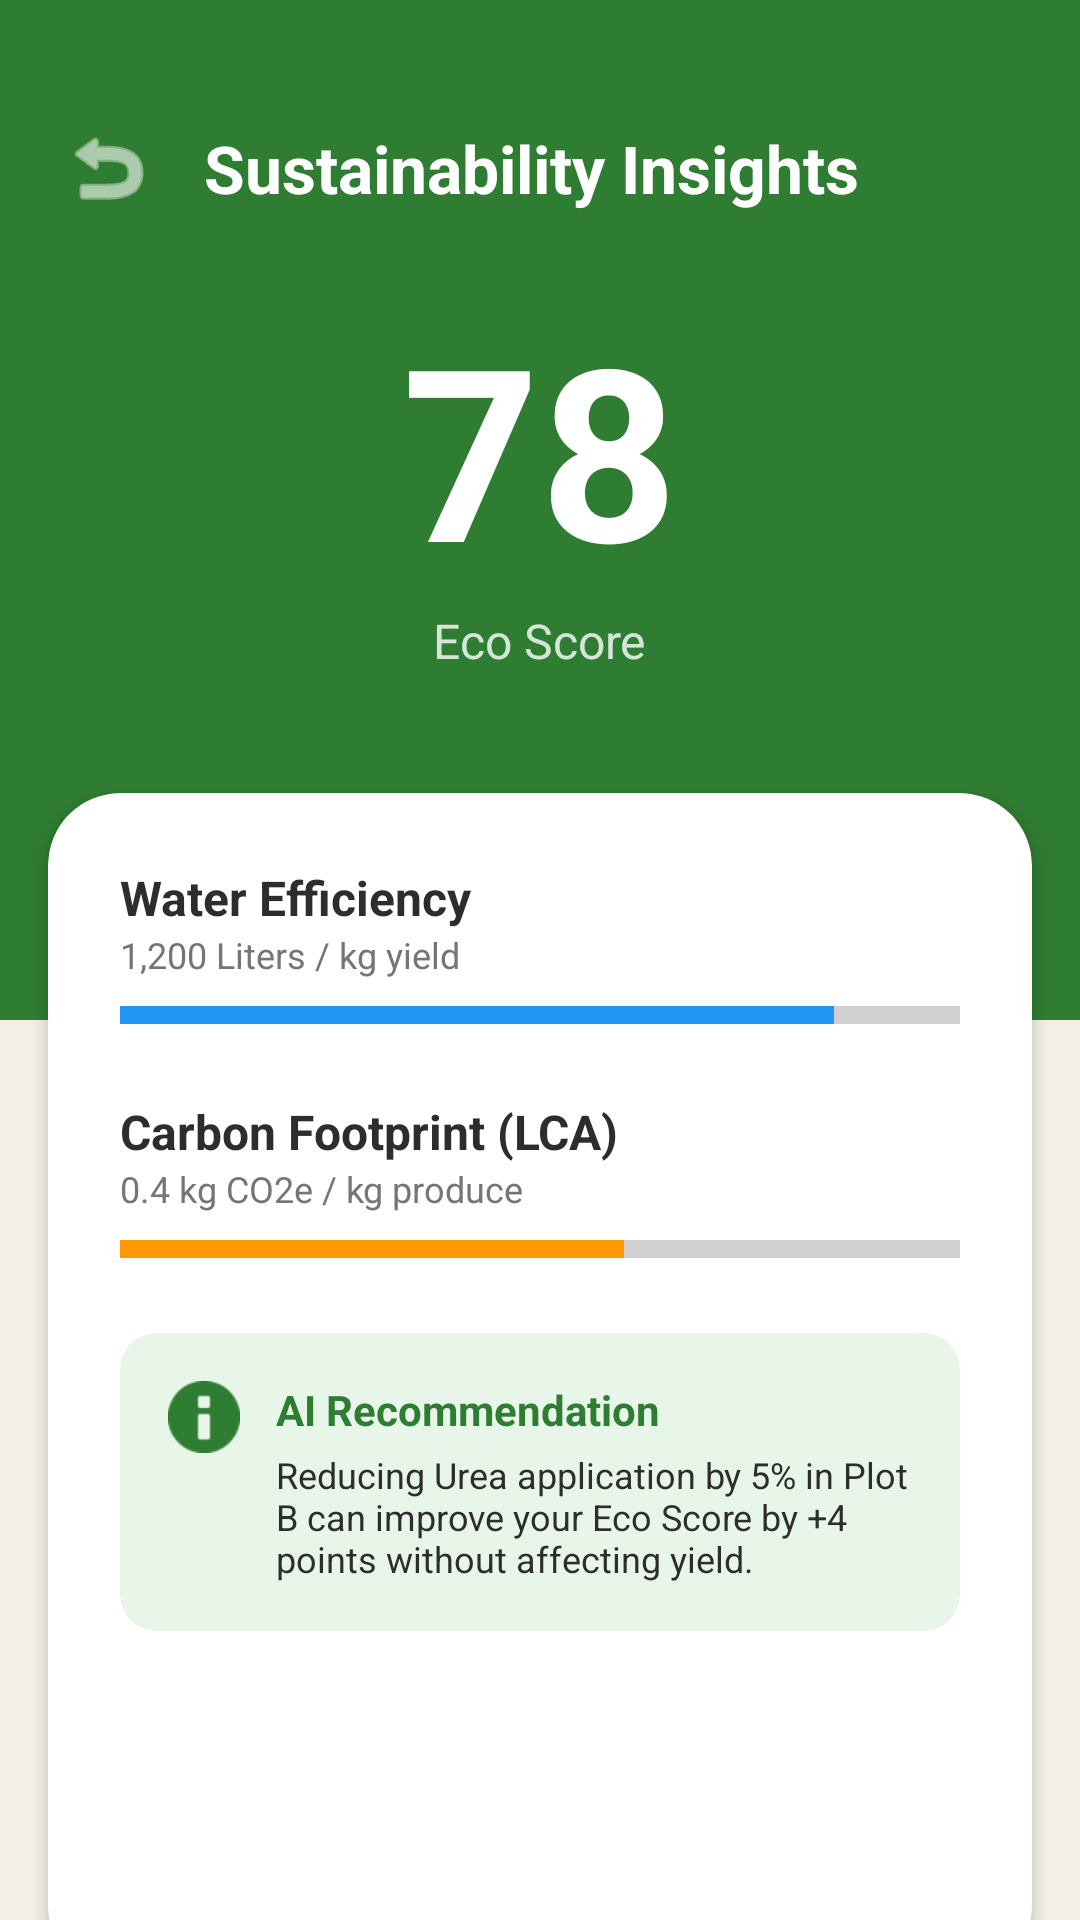

Locate icon controls on the screen. Image size 1080 x 1920, boxes as {"x1": x1, "y1": y1, "x2": x2, "y2": y2}.
info: {"x1": 168, "y1": 1381, "x2": 240, "y2": 1453}
revert: {"x1": 75, "y1": 137, "x2": 144, "y2": 200}
